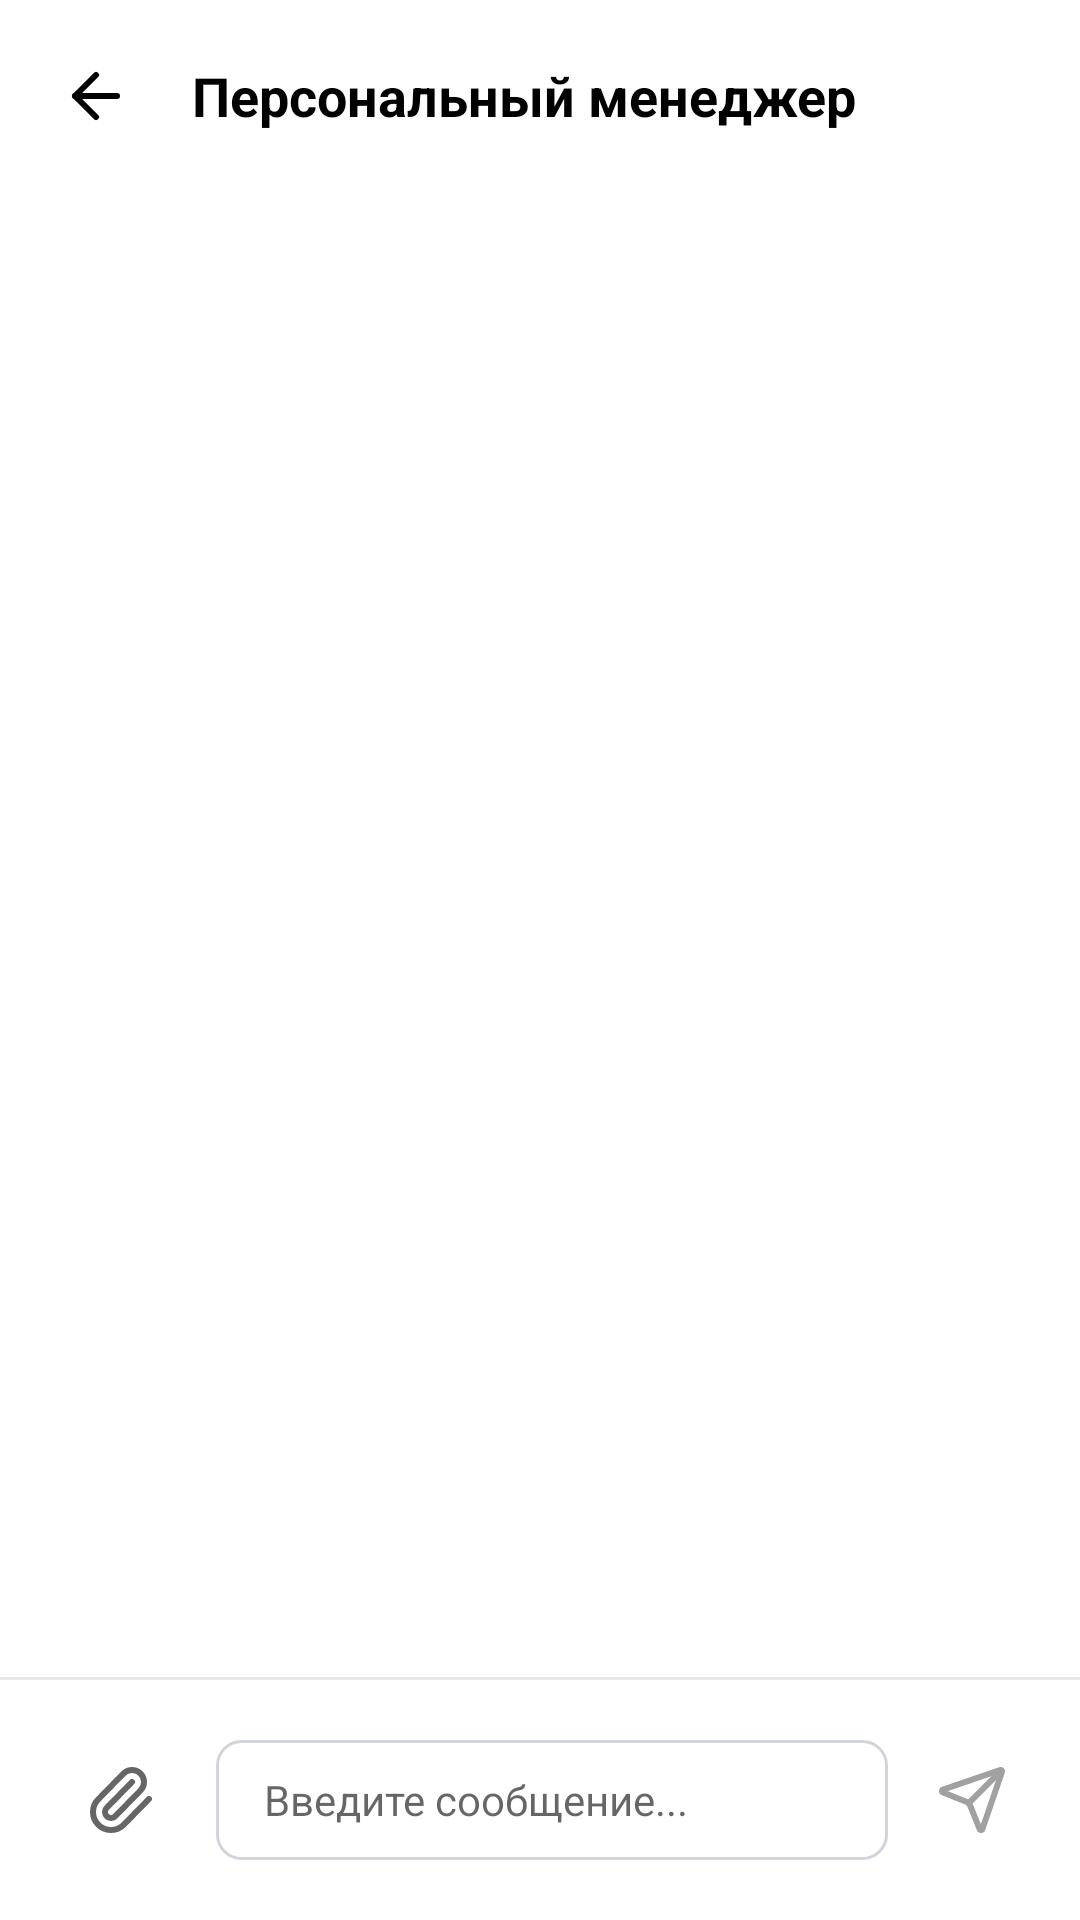

Icon click points for this 1080×1920 phone screenshot, format (x,y):
Attach: (121,1800)
Send: (972,1800)
Назад: (96,96)
